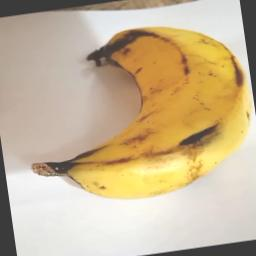Banana Unripe: (14, 6, 256, 216)
